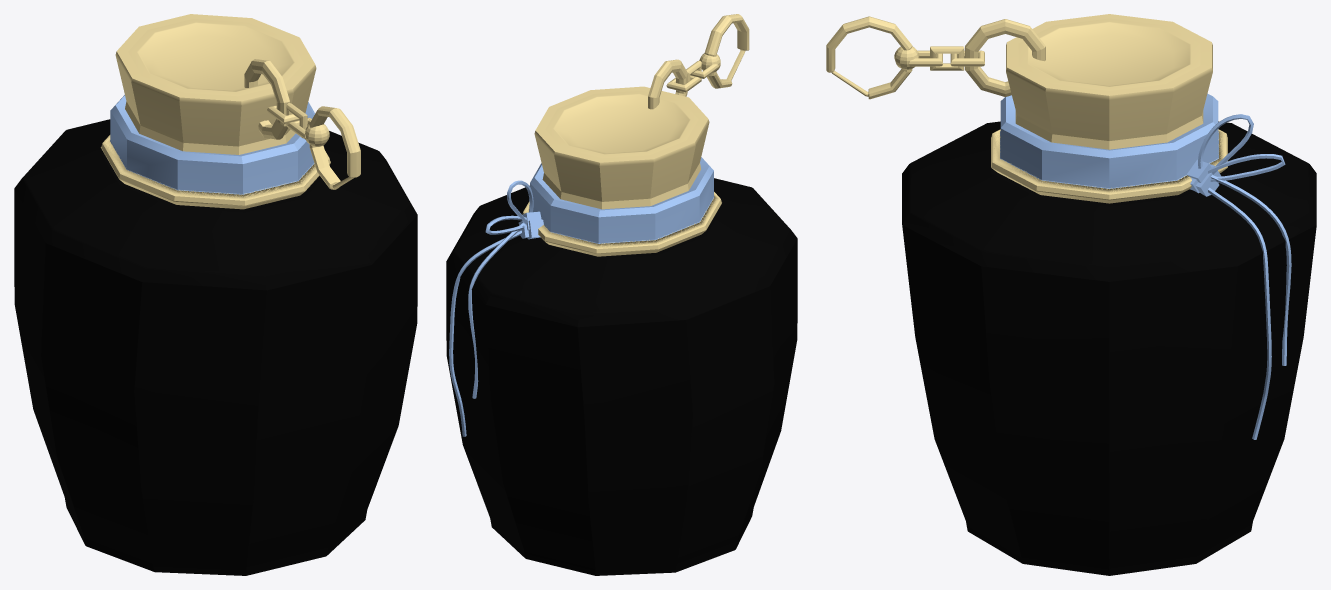
Rendered from ShinyRRbottle.fbx.
3 views of the same model, side by side, from view 1: azimuth 30°, elevation 25°; view 2: azimuth 150°, elevation 25°; view 3: azimuth 270°, elevation 25° (orthographic). The views are drawn at different scales.
Parts seen in each view (by area): view 1: Bottle, BottleCap, Bottlecoverthing, Bottle_ribbon, keyring, Ring; view 2: Bottle, BottleCap, Bottlecoverthing, ribbon, Bottle_ribbon, keyring, Ring; view 3: Bottle, BottleCap, Bottlecoverthing, ribbon, Bottle_ribbon, keyring, Ring.
Part boxes in pixels (box(x1,y1,x2,y2)): Bottle: box(14, 119, 417, 575); BottleCap: box(115, 14, 316, 154); Bottlecoverthing: box(110, 95, 315, 194); Bottle_ribbon: box(101, 135, 330, 209); keyring: box(305, 106, 360, 189); Ring: box(244, 59, 289, 139); Bottle: box(446, 178, 797, 575); BottleCap: box(534, 86, 709, 209); Bottlecoverthing: box(530, 157, 714, 243); ribbon: box(449, 180, 543, 436); Bottle_ribbon: box(522, 192, 721, 256); keyring: box(699, 14, 749, 88); Ring: box(648, 59, 687, 109); Bottle: box(902, 121, 1316, 575); BottleCap: box(1006, 14, 1212, 149); Bottlecoverthing: box(1000, 93, 1218, 188); ribbon: box(1186, 114, 1291, 439); Bottle_ribbon: box(991, 129, 1227, 203); keyring: box(826, 16, 919, 99); Ring: box(965, 19, 1045, 96).
Size of the model in its own units: 9.52 by 12.87 by 11.55.
